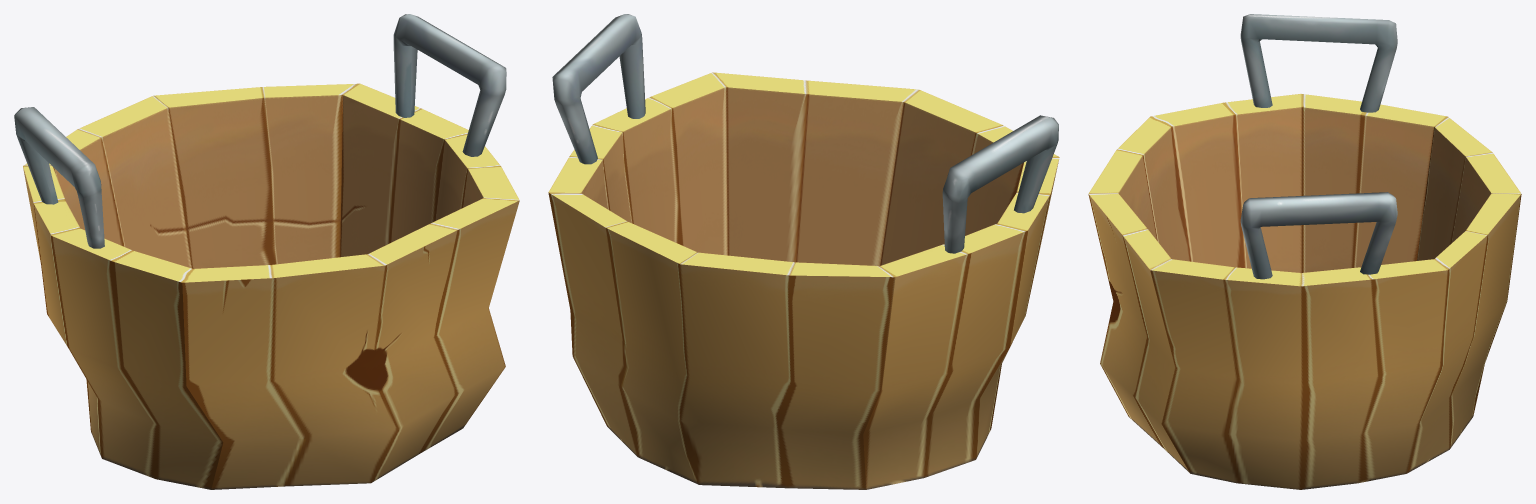
The model's file is Applebasket.fbx.
3 renders of one model, left to right at view 1: azimuth 30°, elevation 25°; view 2: azimuth 150°, elevation 25°; view 3: azimuth 270°, elevation 25°, orthographic. The views are drawn at different scales.
Parts seen in each view (by area): view 1: polySurface7; view 2: polySurface7; view 3: polySurface7.
Boxes of the visible parts, x1,y1,x2,y2 form: polySurface7: [14, 14, 519, 489]; polySurface7: [548, 14, 1059, 489]; polySurface7: [1088, 14, 1521, 489].
Size of the model in its own units: 72.68 by 52.15 by 67.8.
1 material, 1 textured.
